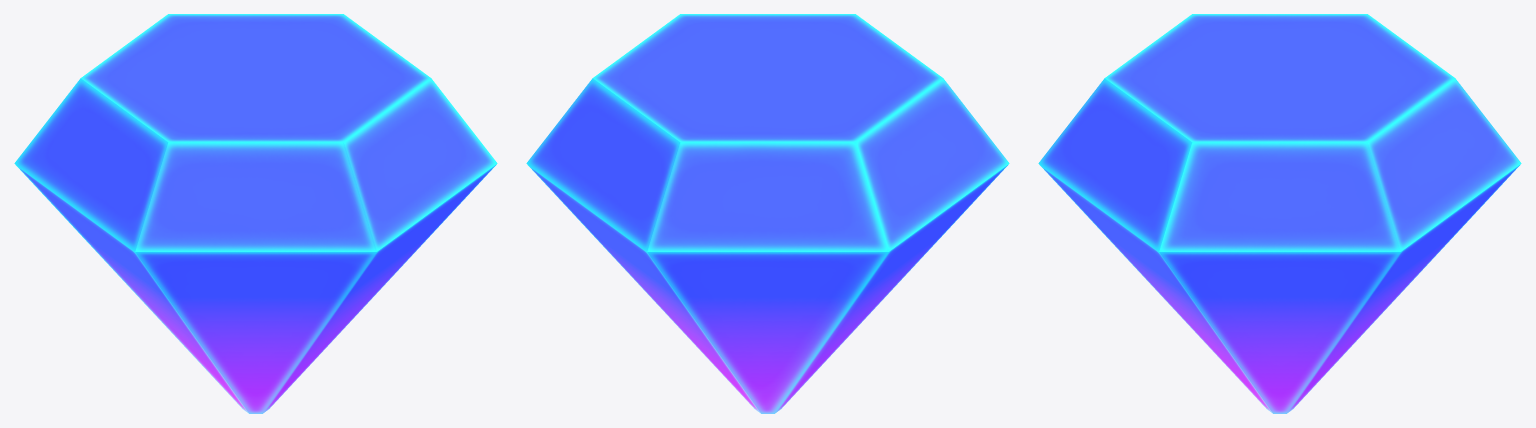
File: Diamond.fbx
The picture shows the model from 3 angles, left to right: view 1: azimuth 30°, elevation 25°; view 2: azimuth 150°, elevation 25°; view 3: azimuth 270°, elevation 25°; orthographic projection.
Visible parts, largest first — view 1: Stone4; view 2: Stone4; view 3: Stone4.
Part boxes in pixels (left/top/right/bottom): Stone4: left=14, top=14, right=497, bottom=413; Stone4: left=526, top=14, right=1009, bottom=413; Stone4: left=1038, top=14, right=1521, bottom=413.
Bounding box in the file's own units: 4250 × 3708 × 4908.
